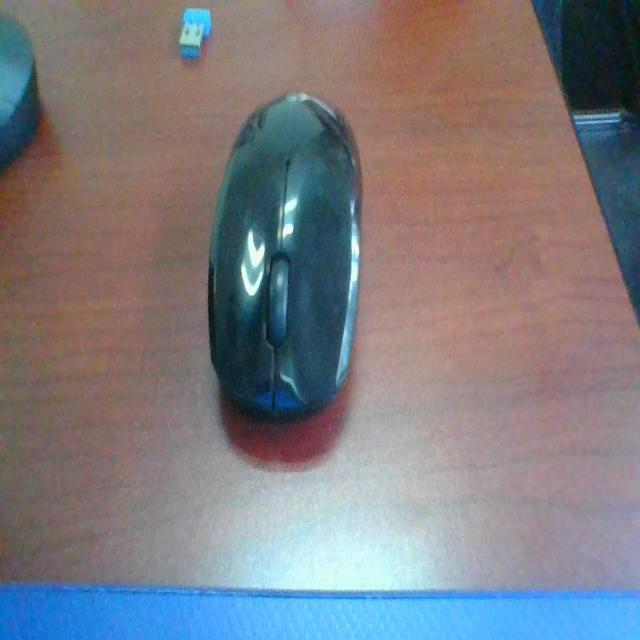Mouse: (205, 86, 378, 443)
